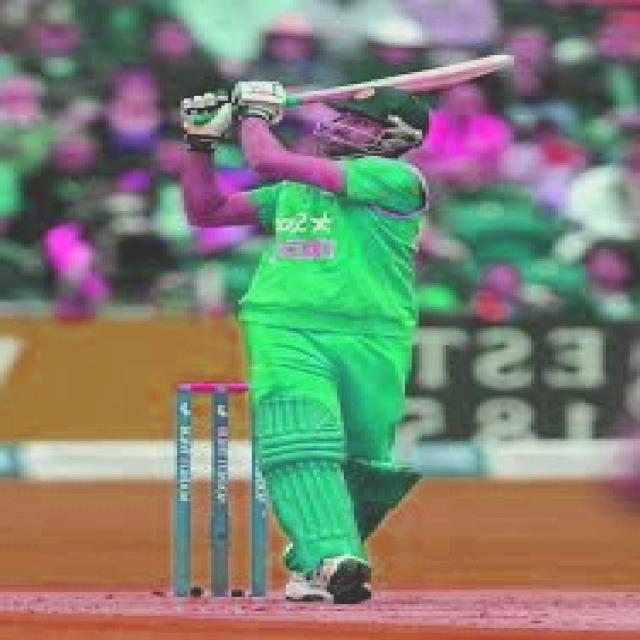toe: (482, 50, 522, 70)
